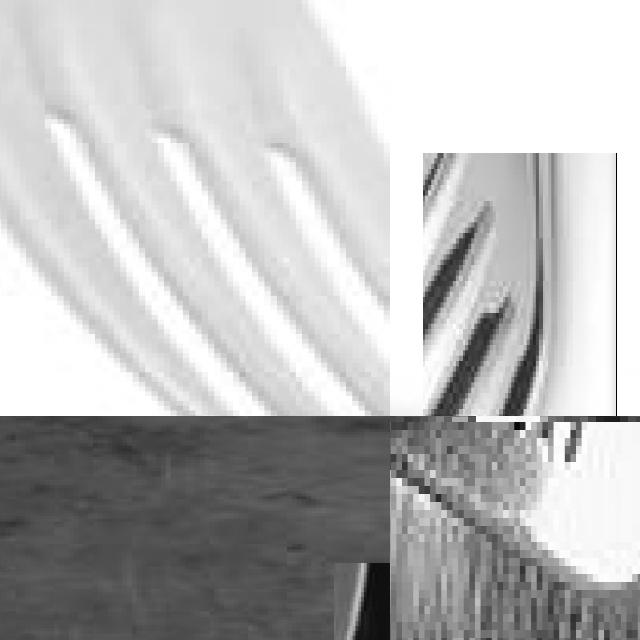forks: (0, 0, 390, 416), (404, 416, 640, 640), (390, 265, 640, 416)
